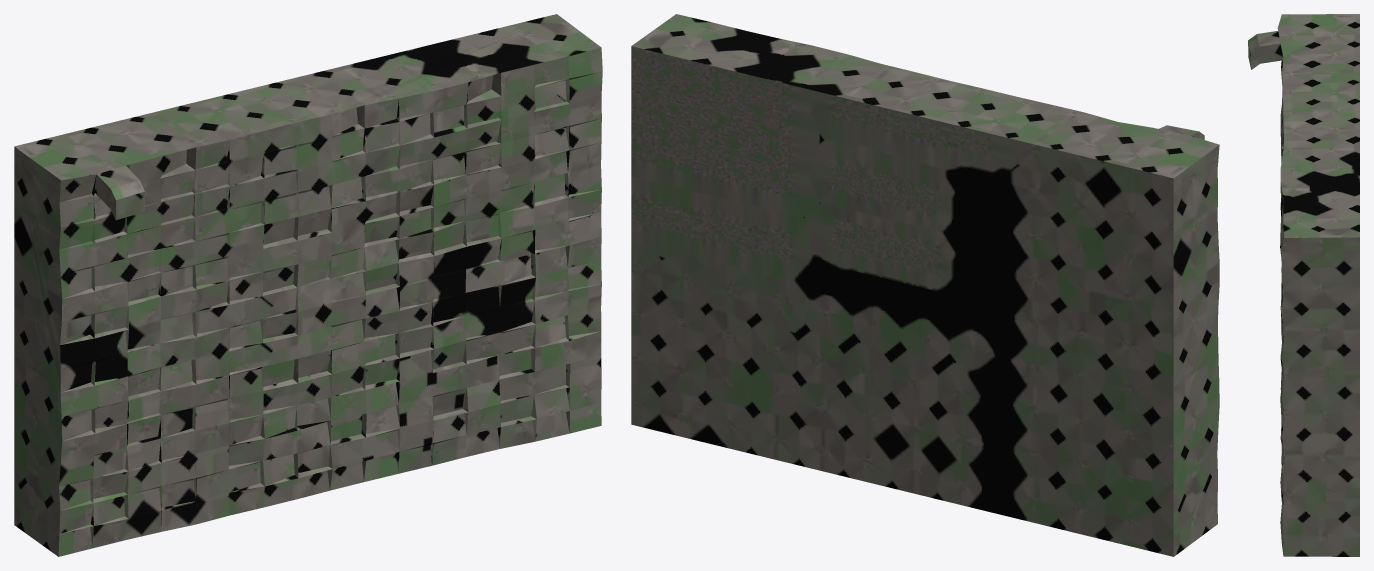
The model's file is dungeon_wall_r3.glb.
The picture shows the model from 3 angles, left to right: view 1: azimuth 30°, elevation 25°; view 2: azimuth 150°, elevation 25°; view 3: azimuth 270°, elevation 25°; orthographic projection. The views are drawn at different scales.
Visible parts, largest first — view 1: dungeon_wall_lp; view 2: dungeon_wall_lp; view 3: dungeon_wall_lp.
Boxes of the visible parts, x1,y1,x2,y2 form: dungeon_wall_lp: [14, 14, 602, 556]; dungeon_wall_lp: [631, 14, 1219, 556]; dungeon_wall_lp: [1248, 14, 1359, 556].
Size of the model in its own units: 6 by 4 by 1.27.
1 material, 1 textured.
